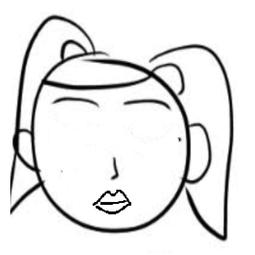cupid_mouth: (87, 186, 139, 216)
ear: (185, 123, 216, 188), (11, 126, 45, 173)
eyebrow: (46, 92, 106, 109), (119, 96, 172, 114)
pointy_nose: (104, 154, 126, 183)
